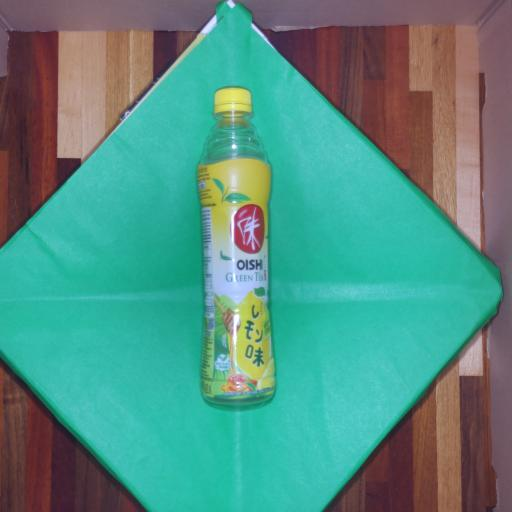bottle: (183, 68, 292, 425)
